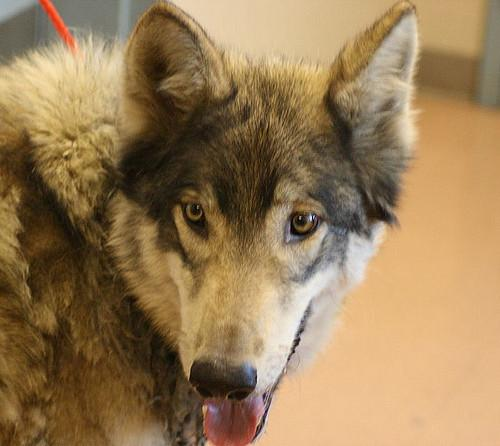Wolf: (0, 2, 414, 446)
